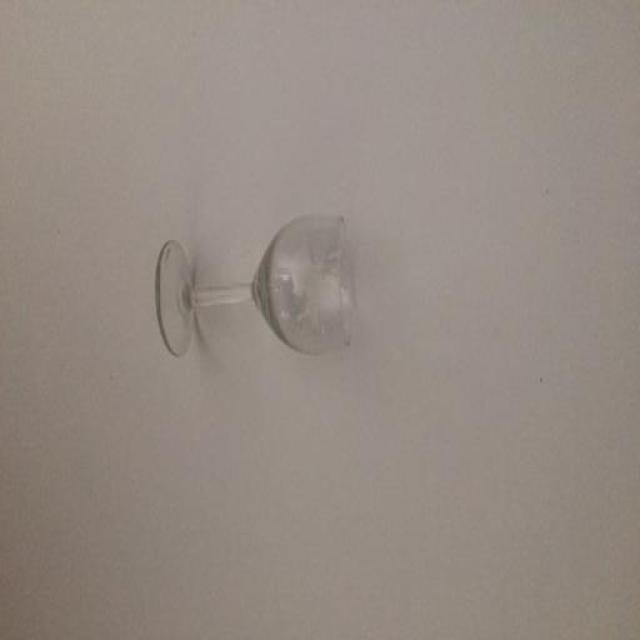Glass: (104, 87, 432, 501)
